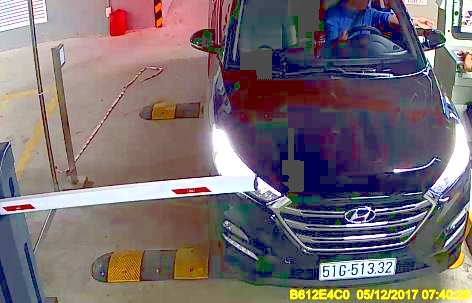plate: (316, 259, 397, 280)
